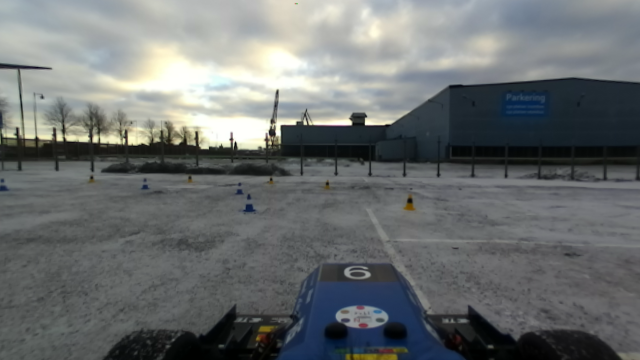blue: (242, 193, 257, 213)
yellow: (402, 193, 418, 213)
